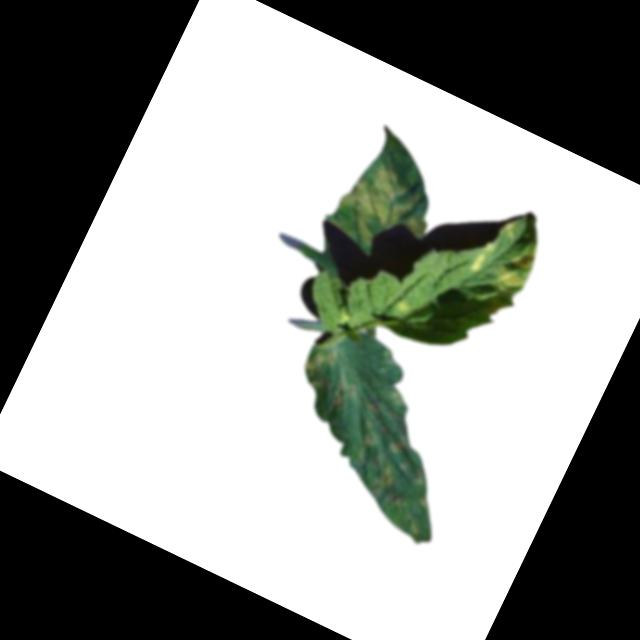Leaf_Mold: (326, 150, 446, 264), (486, 230, 544, 296), (296, 337, 342, 386), (347, 416, 384, 463), (362, 456, 399, 502), (323, 370, 361, 412), (465, 237, 495, 278), (385, 433, 408, 458), (393, 293, 415, 317)
